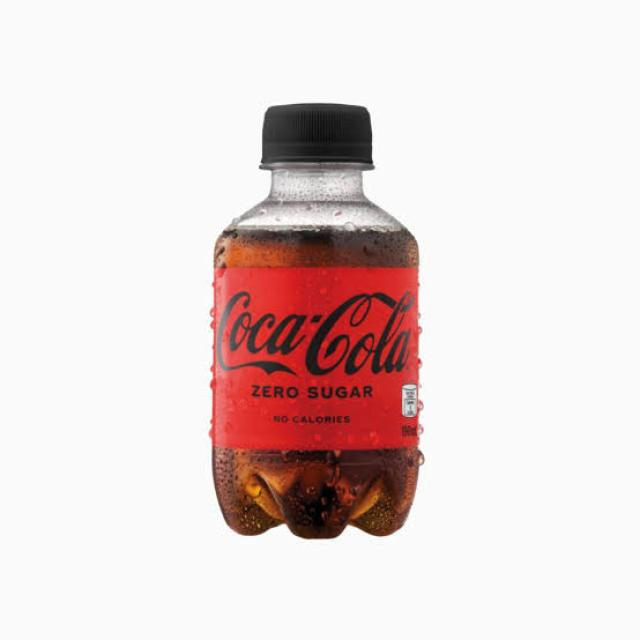plastic: (195, 90, 446, 548)
